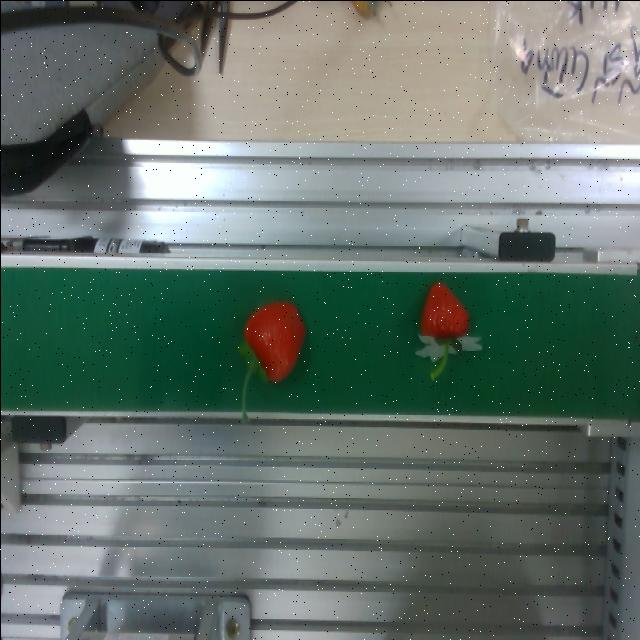Large Ripe Strawberry: (226, 287, 310, 384)
Small Ripe Strawberry: (413, 278, 481, 368)
conveyor: (0, 259, 640, 429)
